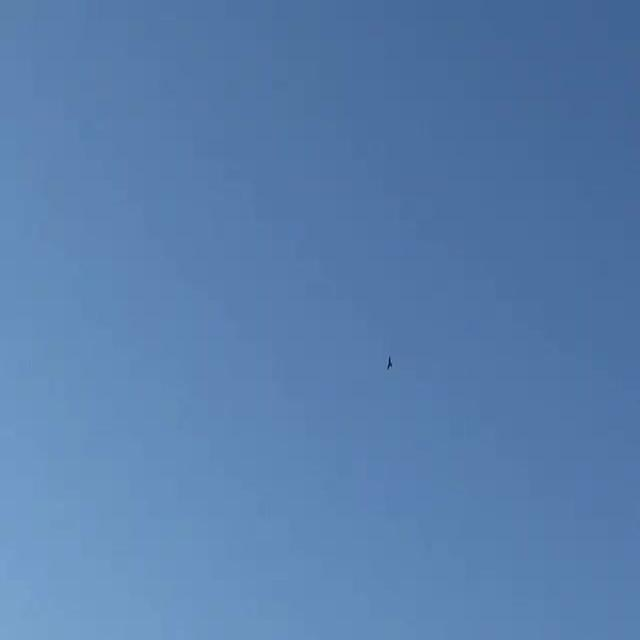bird: (383, 358, 399, 368)
